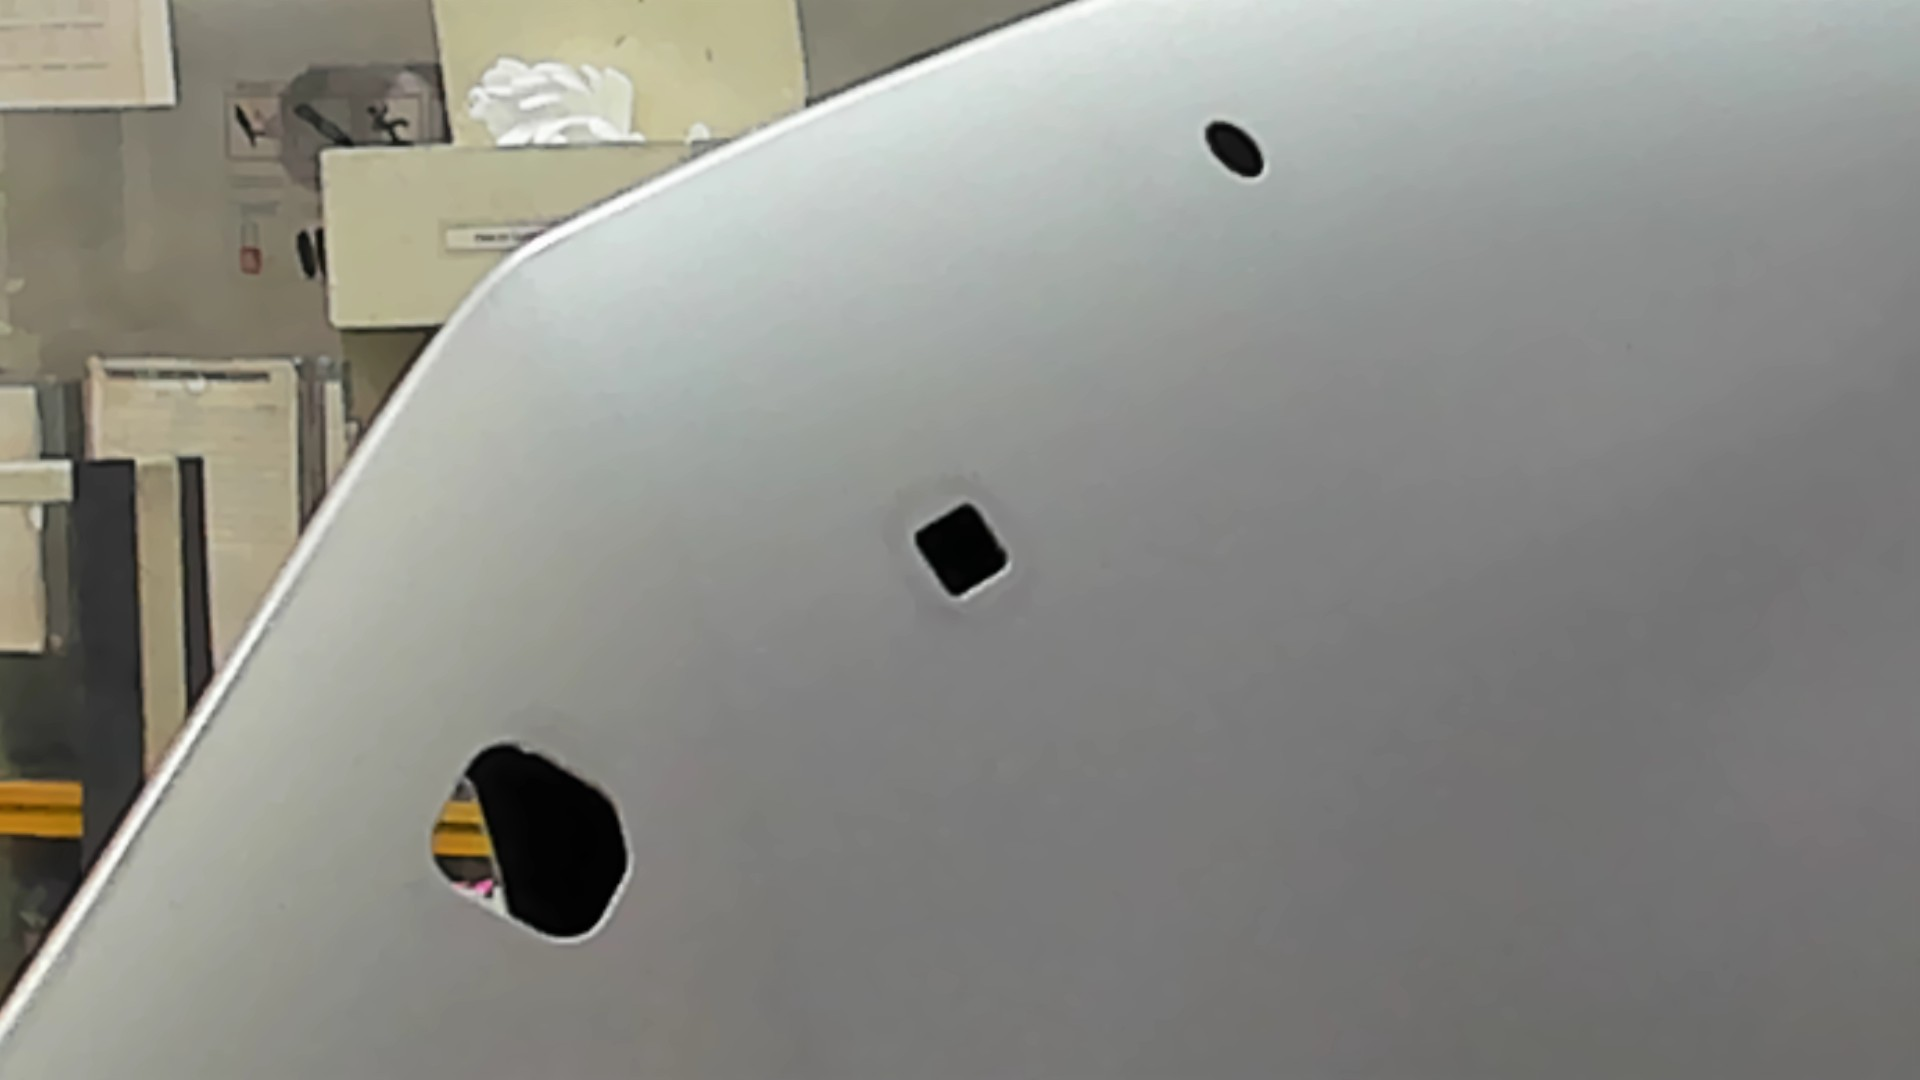Agujero: (914, 501, 1011, 600), (1203, 115, 1266, 177)
Agujerote: (429, 742, 633, 942)
